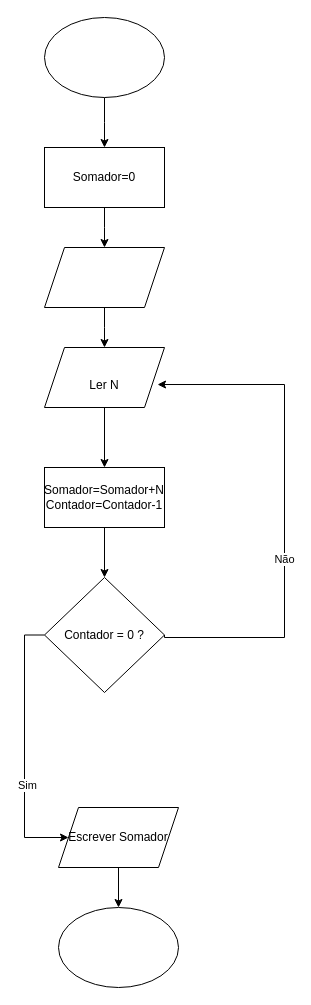
Image size: 311x1005. Some labels were removed from this diagram. The shapes that lost their labels are listed below. From the top down, each one's box as (x1, y1, x2, y2) in pixels, then its label:
(44, 16, 164, 98): Início
(44, 246, 164, 308): Ler Contador
(58, 906, 178, 988): Fim
